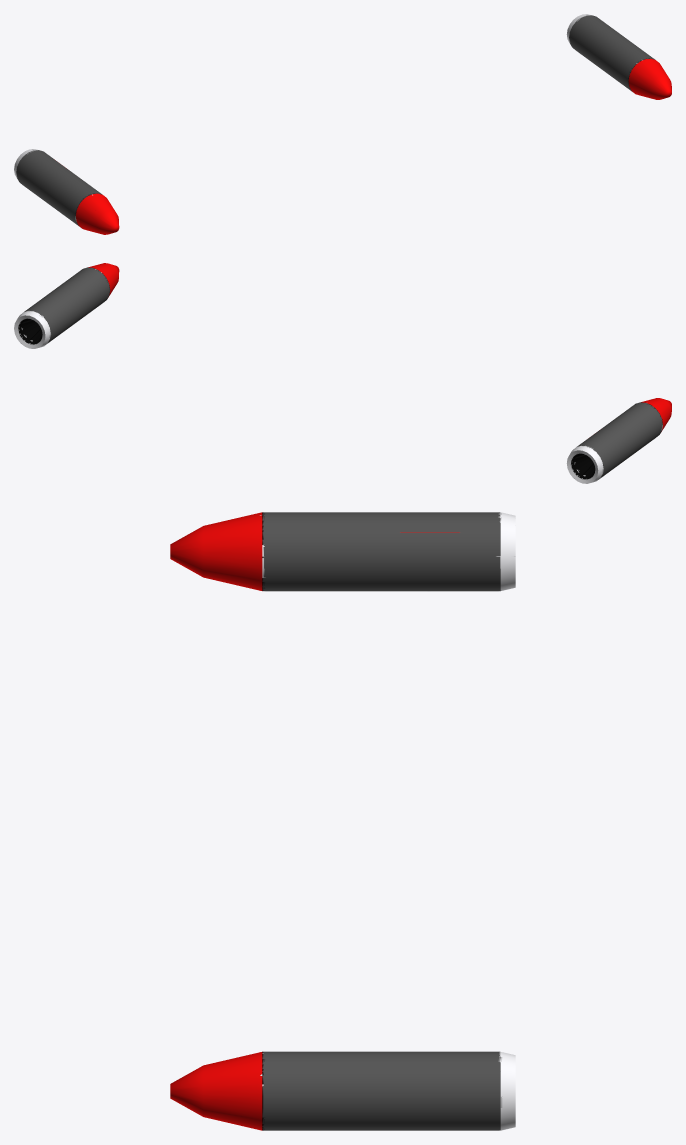
The model's file is booster.obj.
The picture shows the model from 3 angles, top to bottom: view 1: azimuth 30°, elevation 25°; view 2: azimuth 150°, elevation 25°; view 3: azimuth 270°, elevation 25°; orthographic projection. The views are drawn at different scales.
Visible parts, largest first — view 1: Cylinder.002; view 2: Cylinder.002; view 3: Cylinder.002.
Part boxes in pixels (left/top/right/bottom): Cylinder.002: left=14, top=14, right=671, bottom=234; Cylinder.002: left=14, top=263, right=671, bottom=483; Cylinder.002: left=170, top=512, right=515, bottom=1130.
Bounding box in the file's own units: 8.93 × 0.5249 × 2.27.
